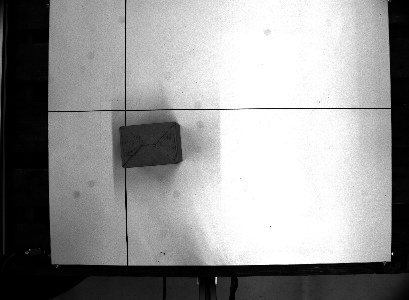b5: (115, 119, 186, 172)
